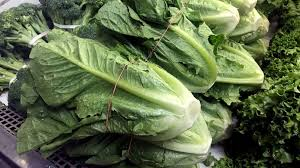Lettuce: (18, 27, 201, 136), (90, 6, 222, 88)
